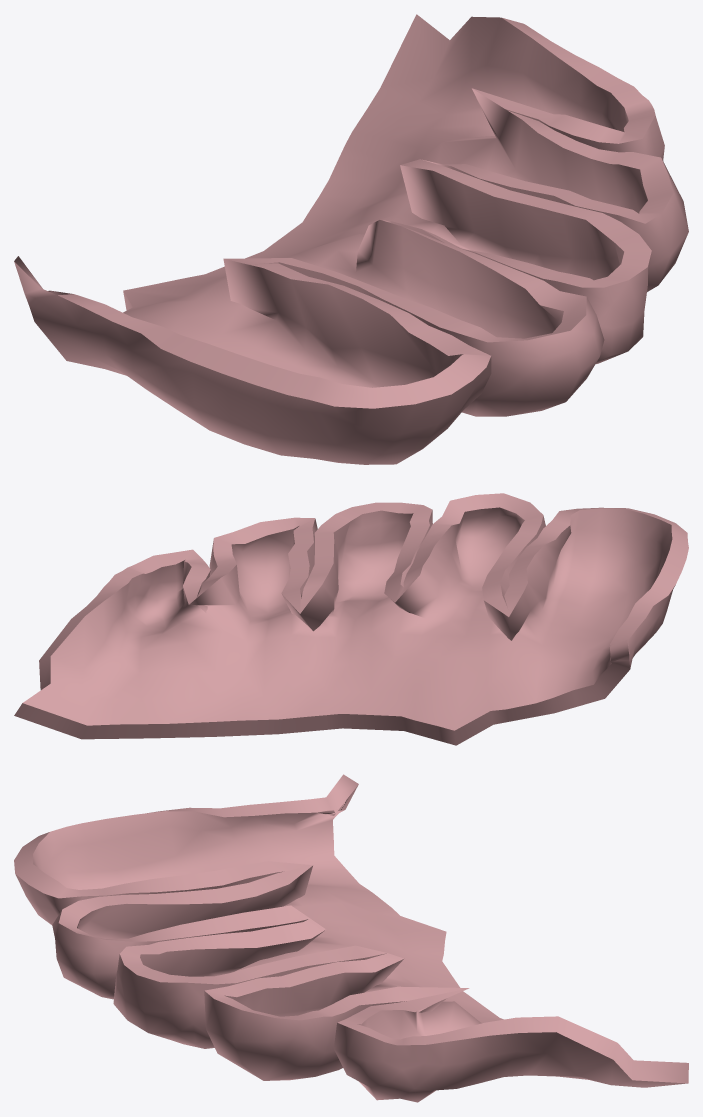
3 views of the same model, one above another, from view 1: azimuth 30°, elevation 25°; view 2: azimuth 150°, elevation 25°; view 3: azimuth 270°, elevation 25° (orthographic). The views are drawn at different scales.
Parts seen in each view (by area): view 1: ZA_95735cc01969b7e4; view 2: ZA_95735cc01969b7e4; view 3: ZA_95735cc01969b7e4.
Boxes of the visible parts, bbox=[...] form: ZA_95735cc01969b7e4: bbox=[14, 14, 688, 464]; ZA_95735cc01969b7e4: bbox=[14, 493, 688, 745]; ZA_95735cc01969b7e4: bbox=[14, 774, 688, 1102].
Size of the model in its own units: 0.0851 by 0.0189 by 0.098.
